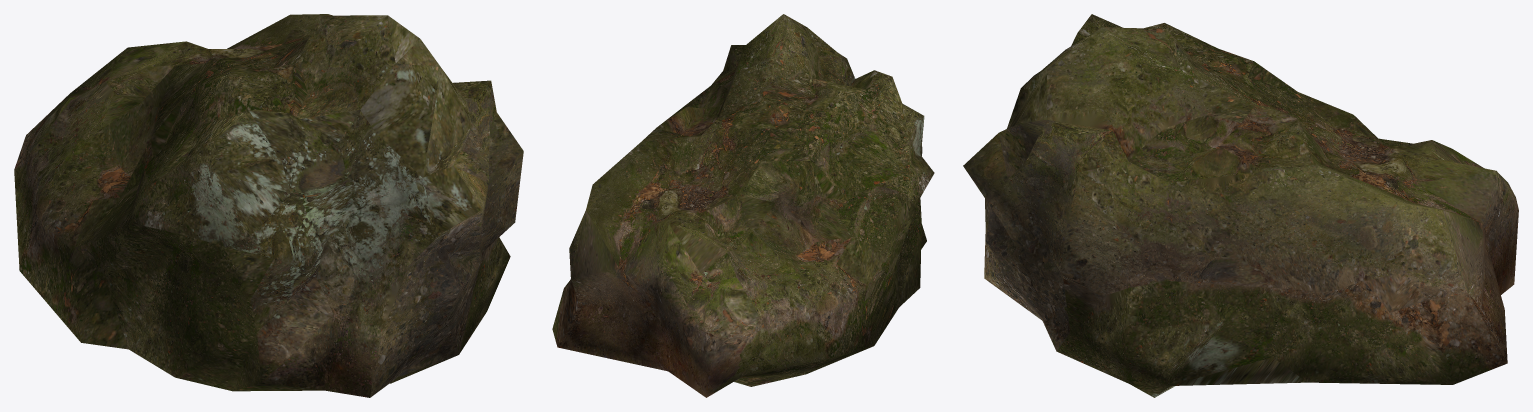
Rendered from Batu besar 1.fbx.
The picture shows the model from 3 angles, left to right: view 1: azimuth 30°, elevation 25°; view 2: azimuth 150°, elevation 25°; view 3: azimuth 270°, elevation 25°; orthographic projection. The views are drawn at different scales.
Visible parts, largest first — view 1: batu 1; view 2: batu 1; view 3: batu 1.
Boxes of the visible parts, left/top/right/bottom form: batu 1: left=14, top=14, right=523, bottom=397; batu 1: left=552, top=14, right=934, bottom=397; batu 1: left=963, top=14, right=1518, bottom=397.
Size of the model in its own units: 128 by 135 by 189.
